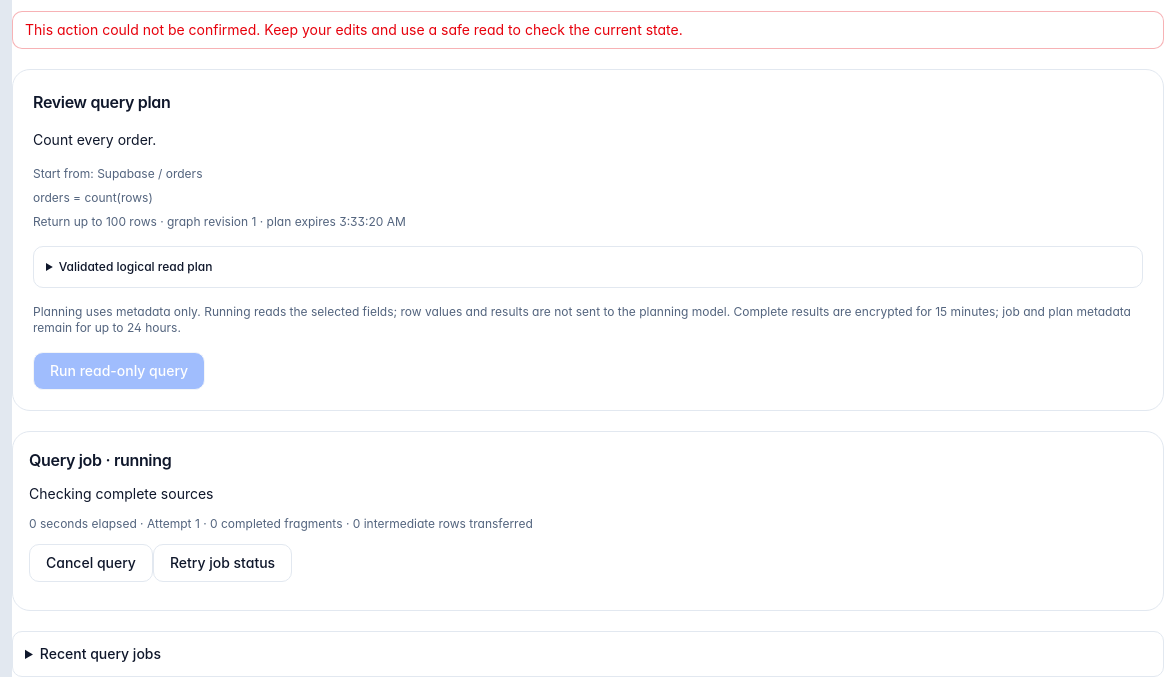
it: allows status recovery after a polling failure
The width and height of the screenshot is (1164, 677).
(page scrolled)
Click the button "Retry job status" at (222, 563), box [153,544,292,582]
(page scrolled)
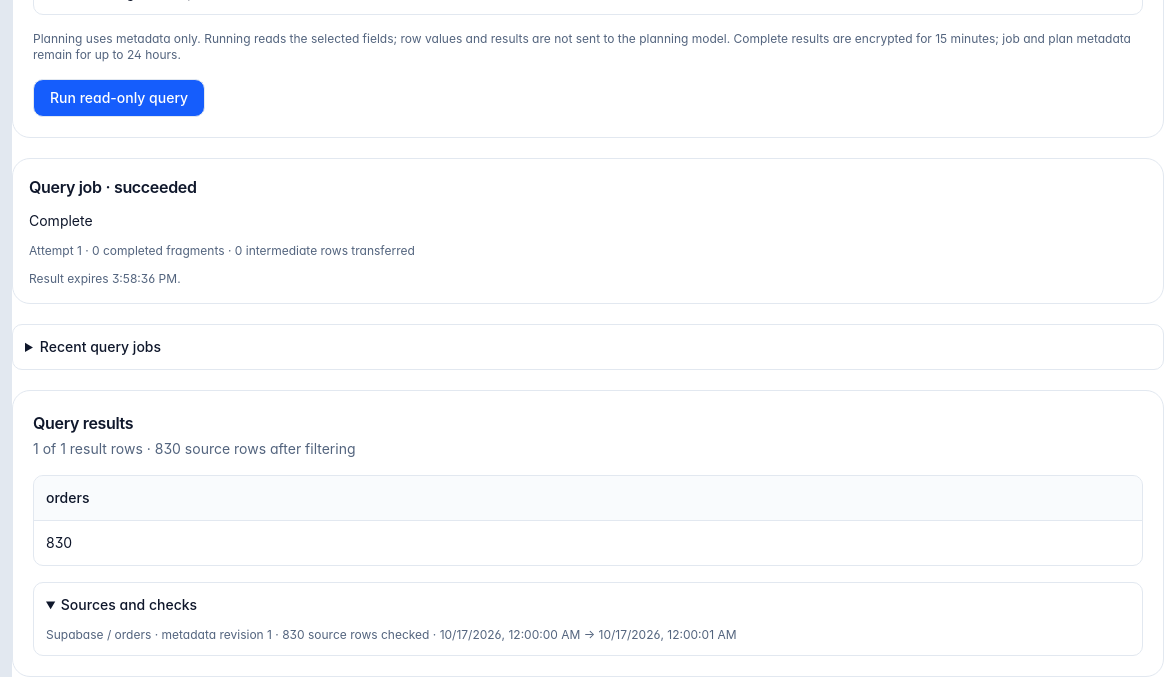
Now the text "830" is shown, box [34,520,1142,565]
